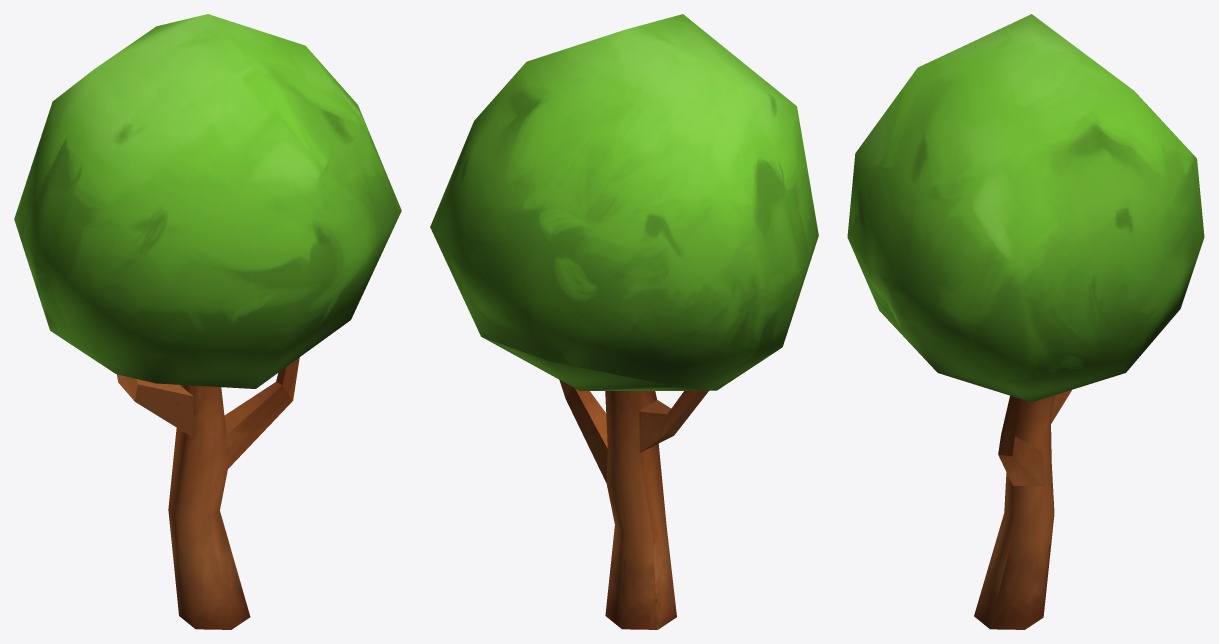
The model's file is derevo.FBX.
The picture shows the model from 3 angles, left to right: view 1: azimuth 30°, elevation 25°; view 2: azimuth 150°, elevation 25°; view 3: azimuth 270°, elevation 25°; orthographic projection. The views are drawn at different scales.
Visible parts, largest first — view 1: GeoSphere004, tree; view 2: GeoSphere004, tree; view 3: GeoSphere004, tree.
Part boxes in pixels (<box>): GeoSphere004: <box>14,14,401,388</box>; tree: <box>117,357,299,629</box>; GeoSphere004: <box>430,14,818,390</box>; tree: <box>559,380,708,629</box>; GeoSphere004: <box>847,14,1204,402</box>; tree: <box>974,390,1071,629</box>.
Size of the model in its own units: 47.34 by 77.53 by 43.41.
Materials: 2 (2 with a texture image).
